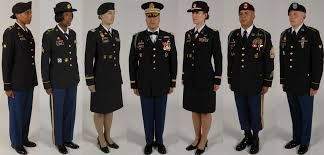uniform: (279, 25, 317, 136), (41, 26, 78, 138), (230, 26, 268, 133), (2, 25, 37, 140), (137, 35, 172, 138)
